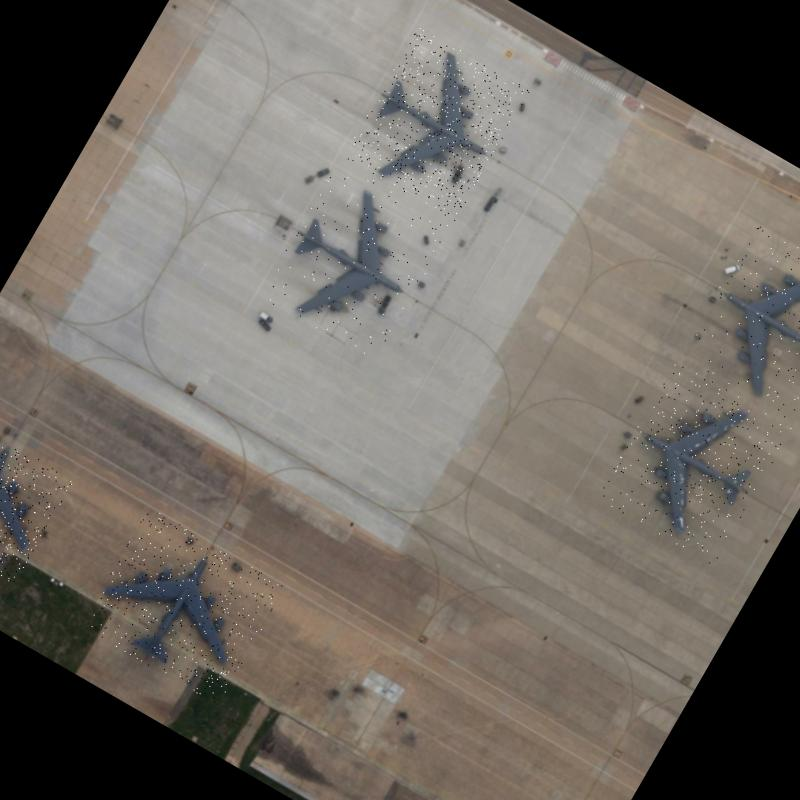A8: (80, 507, 287, 706), (596, 360, 793, 565), (258, 160, 454, 364), (343, 26, 530, 221), (678, 219, 800, 425), (0, 405, 74, 587)
